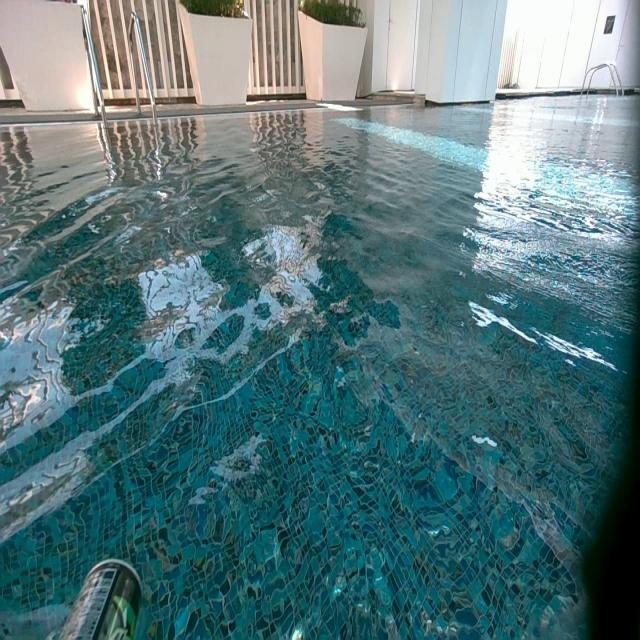Cans: (55, 559, 143, 639)
